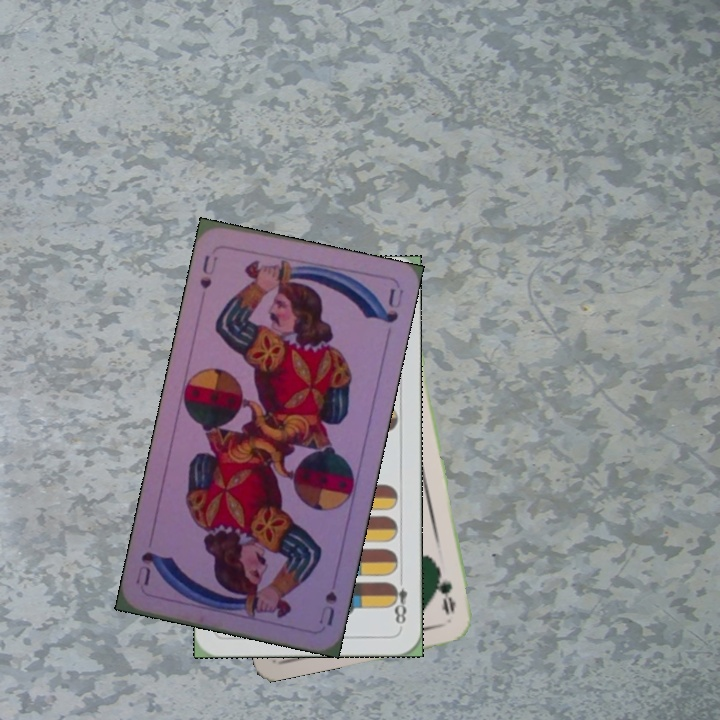E8: (387, 571, 410, 630)
GO: (431, 561, 458, 617)
SU: (195, 251, 221, 292), (315, 587, 340, 629)
